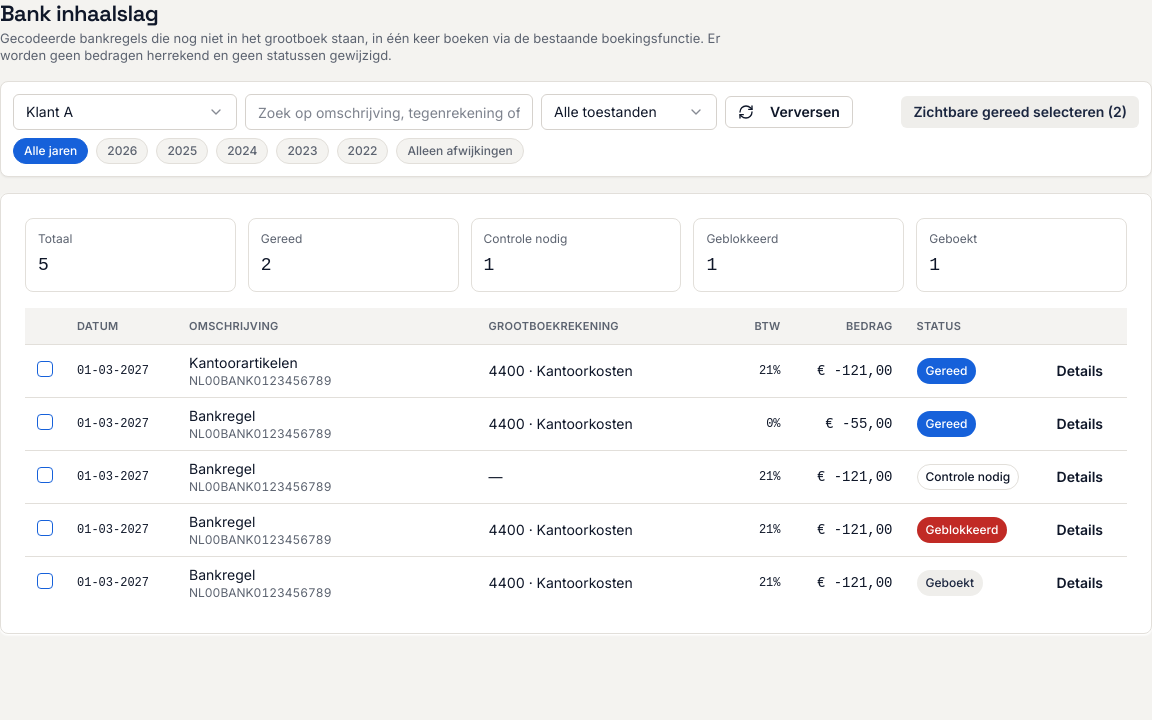
Test case: de grens met de boekhouding › 8c. het auditpaneel toont geen berekende tegenboeking
What coordinates should you click on to do the following:
click the button with test id "inhaalslag-detail"
I would click on:
 (1080, 371)
Its box is 1044,355 -> 1115,387.
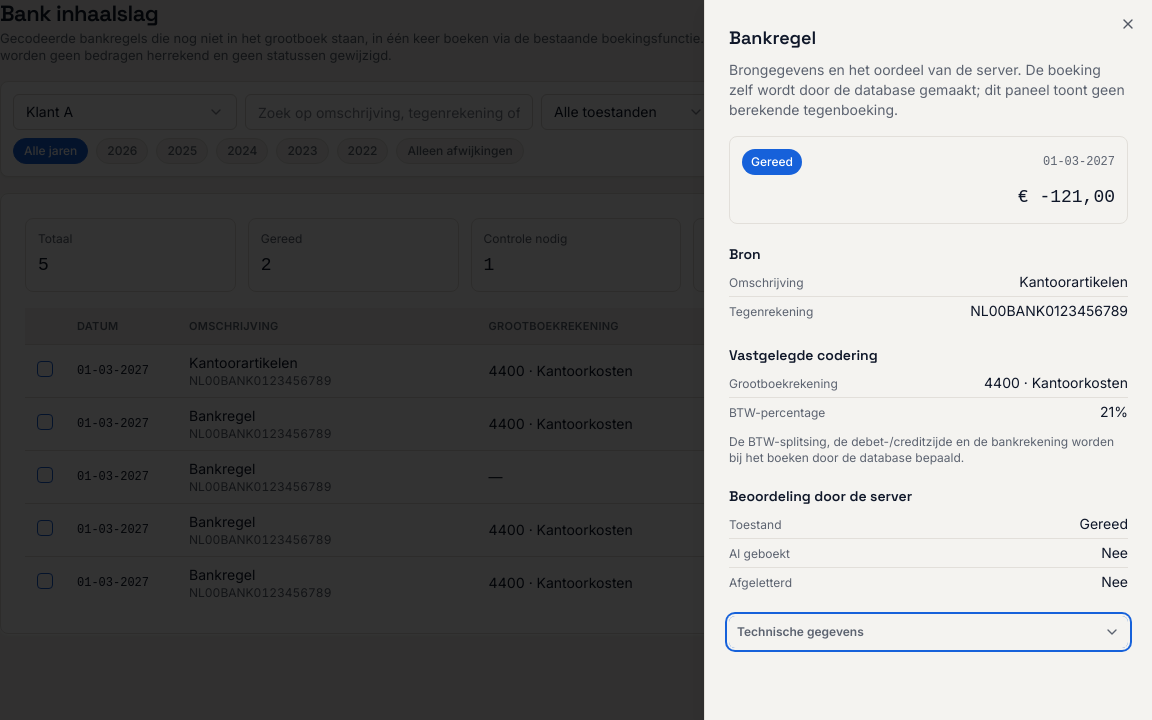
expect the text "€ -121,00" is shown: met, box 1018,187 -> 1115,207
expect the text with test id "bulk-sheet-btw" reads "21%": met, box 1100,403 -> 1128,420
expect the text with test id "bulk-sheet-rekening" reads "4400 · Kantoorkosten": met, box 984,374 -> 1128,391
